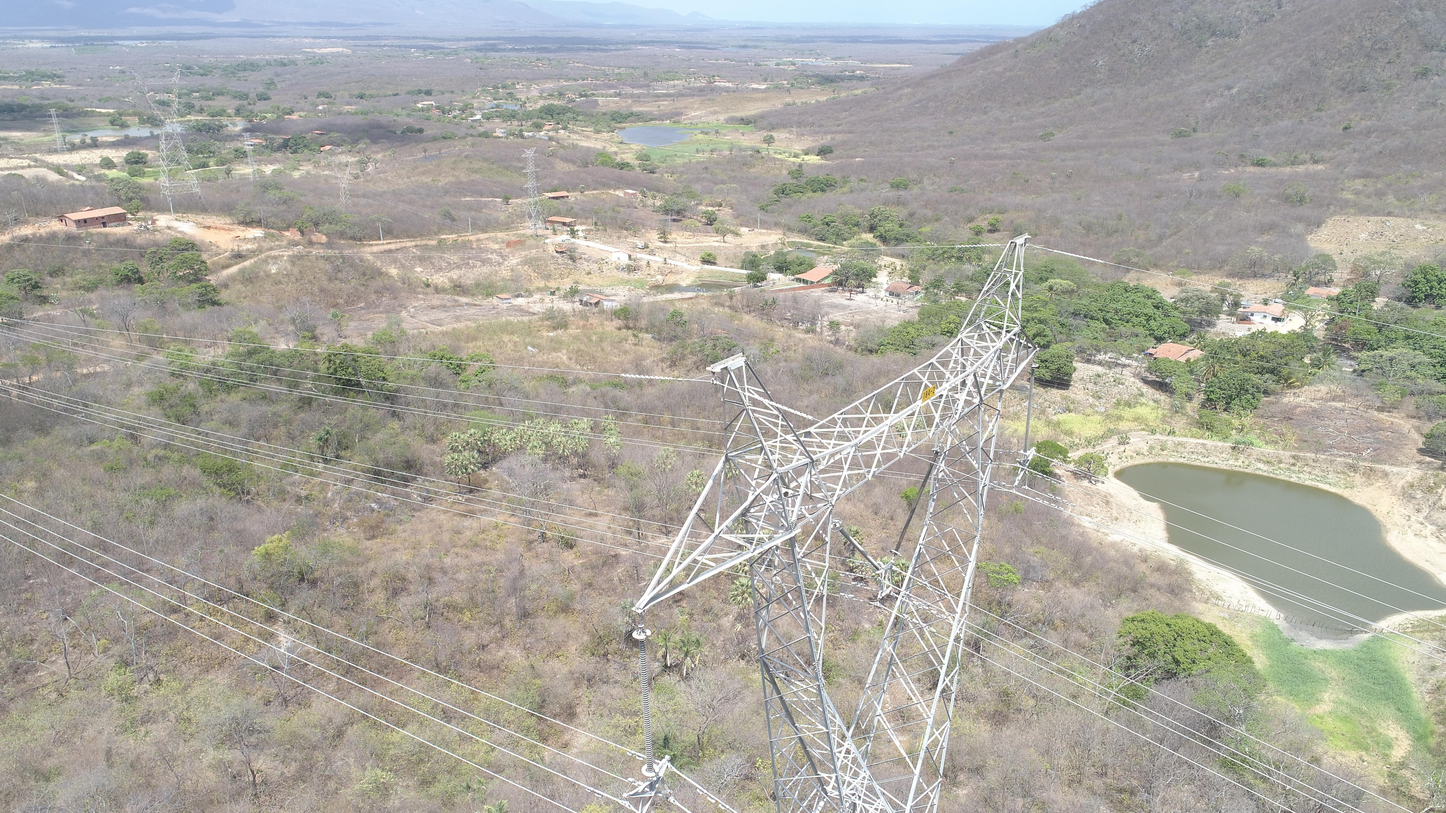power_tower: (633, 230, 1040, 812), (131, 67, 210, 214), (518, 146, 547, 226), (41, 104, 69, 157), (330, 162, 355, 215), (244, 131, 259, 178)
